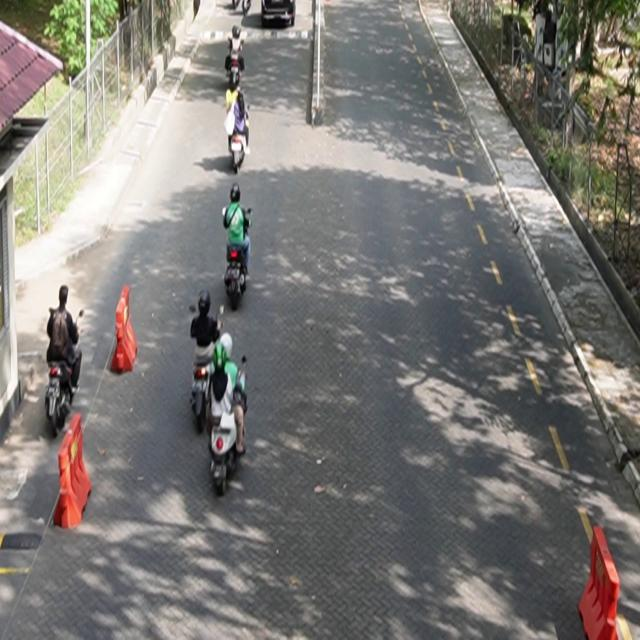car: (261, 1, 296, 28)
